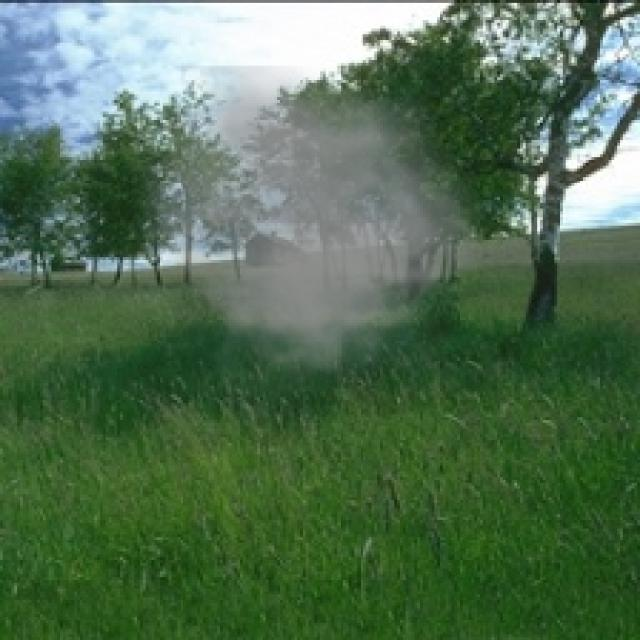smoke: (123, 66, 500, 411)
